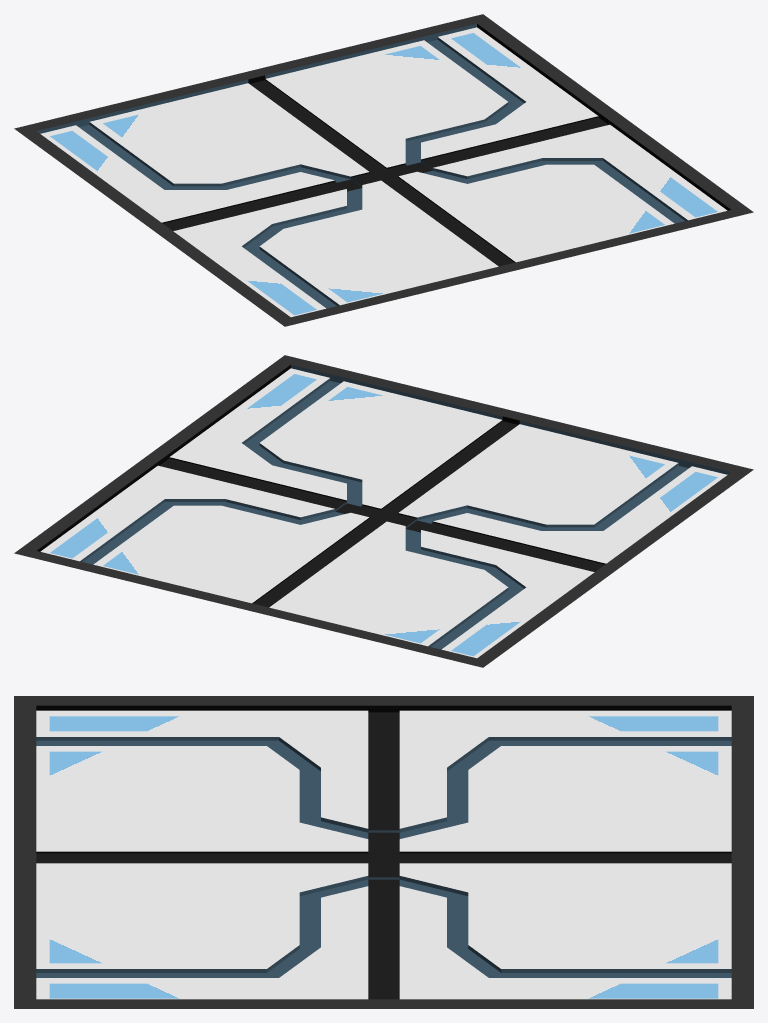
Rendered from Room1.fbx.
3 views of the same model, one above another, from view 1: azimuth 30°, elevation 25°; view 2: azimuth 150°, elevation 25°; view 3: azimuth 270°, elevation 25° (orthographic). The views are drawn at different scales.
Visible parts, largest first — view 1: Plane; view 2: Plane; view 3: Plane.
Part boxes in pixels (x1,y1,x2,y2): Plane: (14,14,753,326); Plane: (14,355,753,667); Plane: (14,696,753,1008).
Bounding box in the file's own units: 16 × 0.2114 × 16.
